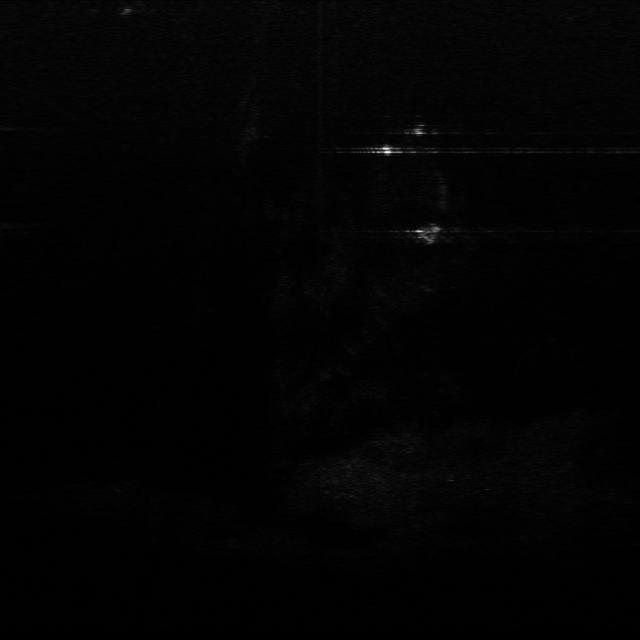rov: (412, 222, 446, 245)
